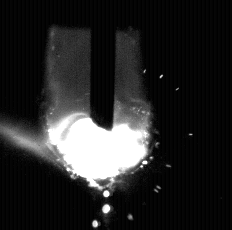arame: (90, 0, 114, 132)
poca: (48, 0, 146, 230)
